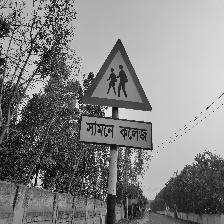College-in-front: (78, 38, 191, 163)
